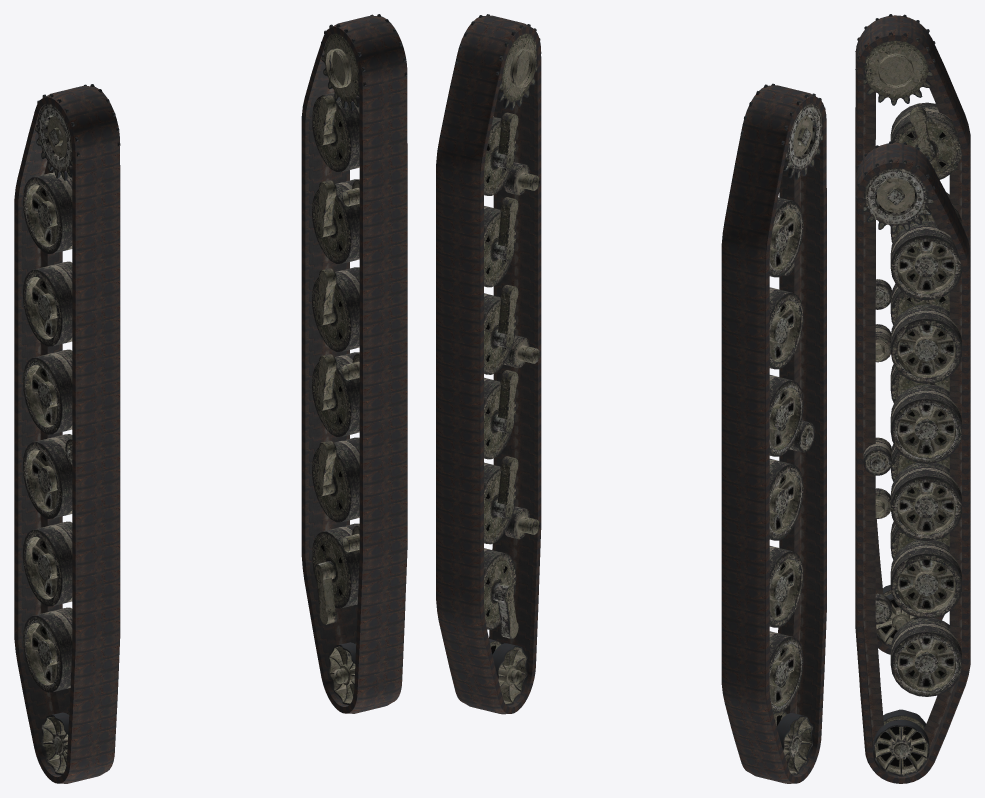
Rendered from Chassis.glb.
3 views of the same model, side by side, from view 1: azimuth 30°, elevation 25°; view 2: azimuth 150°, elevation 25°; view 3: azimuth 270°, elevation 25° (orthographic). The views are drawn at different scales.
Visible parts, largest first — view 1: set_1_group_0, set_0_group_0, set_2_group_0, set_3_group_0; view 2: set_0_group_0, set_1_group_0, set_3_group_0, set_2_group_0; view 3: set_3_group_0, set_1_group_0, set_2_group_0, set_0_group_0.
Part boxes in pixels (left/top/right/bottom): set_1_group_0: left=301, top=15, right=407, bottom=713; set_0_group_0: left=14, top=86, right=120, bottom=783; set_2_group_0: left=23, top=84, right=120, bottom=775; set_3_group_0: left=312, top=14, right=407, bottom=704; set_0_group_0: left=721, top=85, right=826, bottom=783; set_1_group_0: left=436, top=15, right=541, bottom=714; set_3_group_0: left=455, top=14, right=541, bottom=705; set_2_group_0: left=740, top=83, right=825, bottom=775; set_3_group_0: left=855, top=141, right=961, bottom=776; set_1_group_0: left=855, top=142, right=970, bottom=783; set_2_group_0: left=855, top=14, right=961, bottom=646; set_0_group_0: left=855, top=15, right=970, bottom=654.
Bounding box in the file's own units: 3.06 × 6.04 × 1.01.
Materials: 4 (4 with a texture image).
